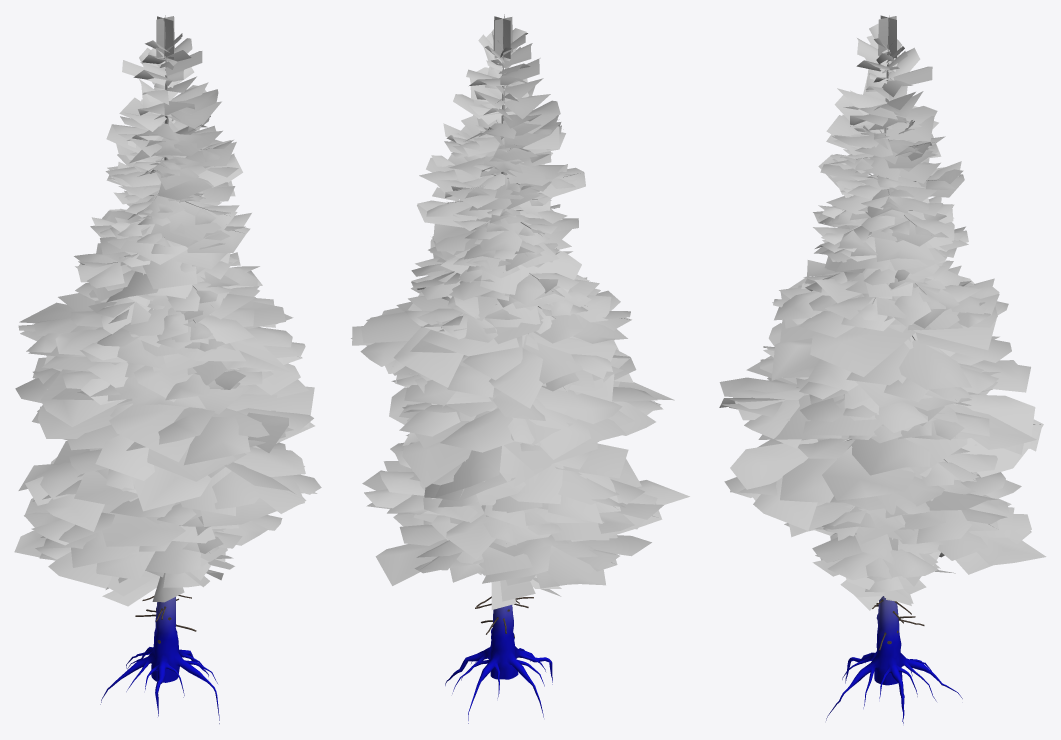
File: Fir_01_LOD0.fbx
3 views of the same model, side by side, from view 1: azimuth 30°, elevation 25°; view 2: azimuth 150°, elevation 25°; view 3: azimuth 270°, elevation 25° (orthographic).
Parts seen in each view (by area): view 1: polySurface3123; view 2: polySurface3123; view 3: polySurface3123.
Part boxes in pixels (box(x1,y1,x2,y2)): polySurface3123: box(14, 15, 321, 723); polySurface3123: box(351, 14, 689, 723); polySurface3123: box(719, 15, 1046, 723).
Bounding box in the file's own units: 562 × 1397 × 598.
